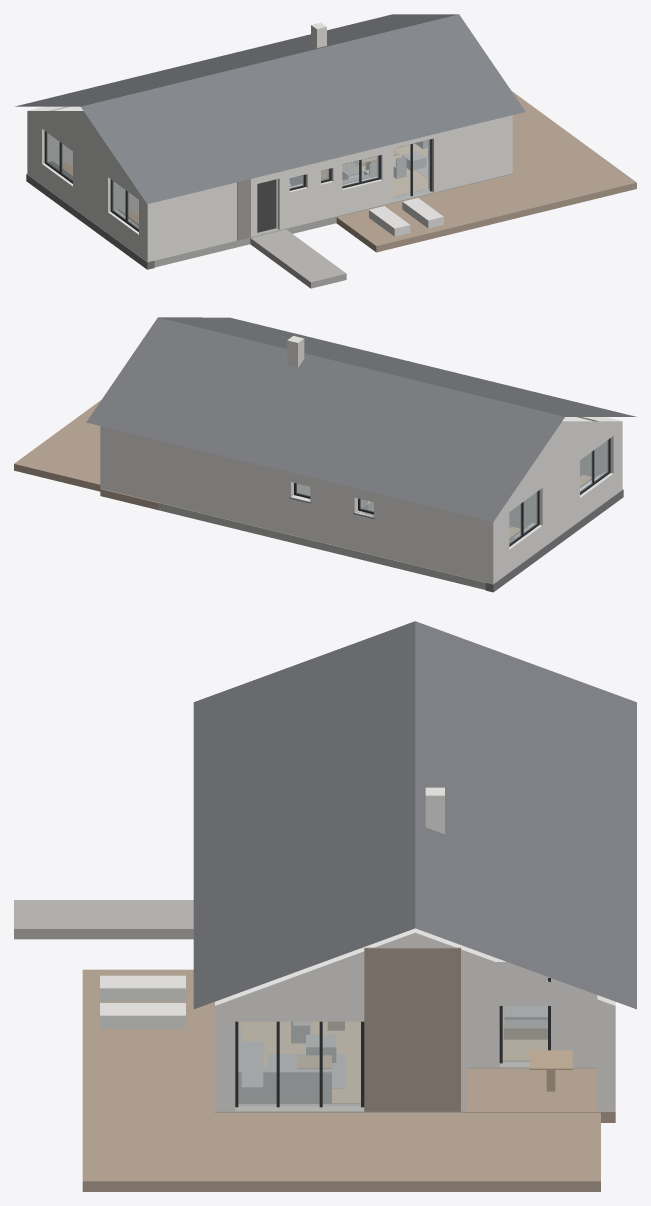
The model's file is house.glb.
3 views of the same model, one above another, from view 1: azimuth 30°, elevation 25°; view 2: azimuth 150°, elevation 25°; view 3: azimuth 270°, elevation 25° (orthographic). The views are drawn at different scales.
Visible parts, largest first — view 1: strecha, 1NP_w3, terasa_juh, 1NP_w2, chodnik_vstup, stit_W, nabytok_nabytok_biela, 1NP_w3_sklo_dvere, zakladova_doska, 1NP_w2_sklo, nabytok_kamen, sokel (+8 smaller); view 2: strecha, 1NP_w1, 1NP_w2, terasa_juh, stit_W, zakladova_doska, 1NP_w2_sklo, sokel, 1NP_w3, 1NP_w2_ram_ram_antracit, nabytok_nabytok_biela, nabytok_omietka_ext (+1 smaller); view 3: strecha, terasa_juh, nabytok_obklad_drevo, 1NP_w4_sklo_dvere, stit_E, chodnik_vstup, nabytok_textil, terasa_kryta, 1NP_w6, nabytok_nabytok_biela, podlaha_1NP, 1NP_w4 (+8 smaller).
Boxes of the visible parts, <box> form: strecha: <box>15,14,525,203</box>; 1NP_w3: <box>142,115,512,262</box>; terasa_juh: <box>336,91,636,252</box>; 1NP_w2: <box>32,115,141,257</box>; chodnik_vstup: <box>250,229,346,288</box>; stit_W: <box>28,111,138,192</box>; nabytok_nabytok_biela: <box>117,173,443,236</box>; 1NP_w3_sklo_dvere: <box>394,140,429,199</box>; zakladova_doska: <box>154,173,512,267</box>; 1NP_w2_sklo: <box>46,132,138,229</box>; nabytok_kamen: <box>237,162,370,240</box>; sokel: <box>26,174,154,269</box>; strecha: <box>86,317,636,521</box>; 1NP_w1: <box>100,426,498,584</box>; 1NP_w2: <box>499,426,616,579</box>; terasa_juh: <box>14,400,100,491</box>; stit_W: <box>502,421,622,509</box>; zakladova_doska: <box>158,502,485,589</box>; 1NP_w2_sklo: <box>509,440,608,543</box>; sokel: <box>485,489,623,592</box>; 1NP_w3: <box>577,417,622,493</box>; 1NP_w2_ram_ram_antracit: <box>509,438,610,546</box>; nabytok_nabytok_biela: <box>297,483,532,528</box>; nabytok_omietka_ext: <box>287,336,304,367</box>; strecha: <box>193,621,636,1009</box>; terasa_juh: <box>82,969,600,1191</box>; nabytok_obklad_drevo: <box>364,947,460,1111</box>; 1NP_w4_sklo_dvere: <box>238,1022,360,1106</box>; stit_E: <box>216,932,613,1005</box>; chodnik_vstup: <box>14,900,193,939</box>; nabytok_textil: <box>238,1006,547,1103</box>; terasa_kryta: <box>466,1068,615,1122</box>; 1NP_w6: <box>466,954,597,1067</box>; nabytok_nabytok_biela: <box>100,975,547,1028</box>; podlaha_1NP: <box>238,980,547,1103</box>; 1NP_w4: <box>233,998,466,1111</box>.
Size of what is drawn, in the model's own units: 20.4 by 5.86 by 14.5.
